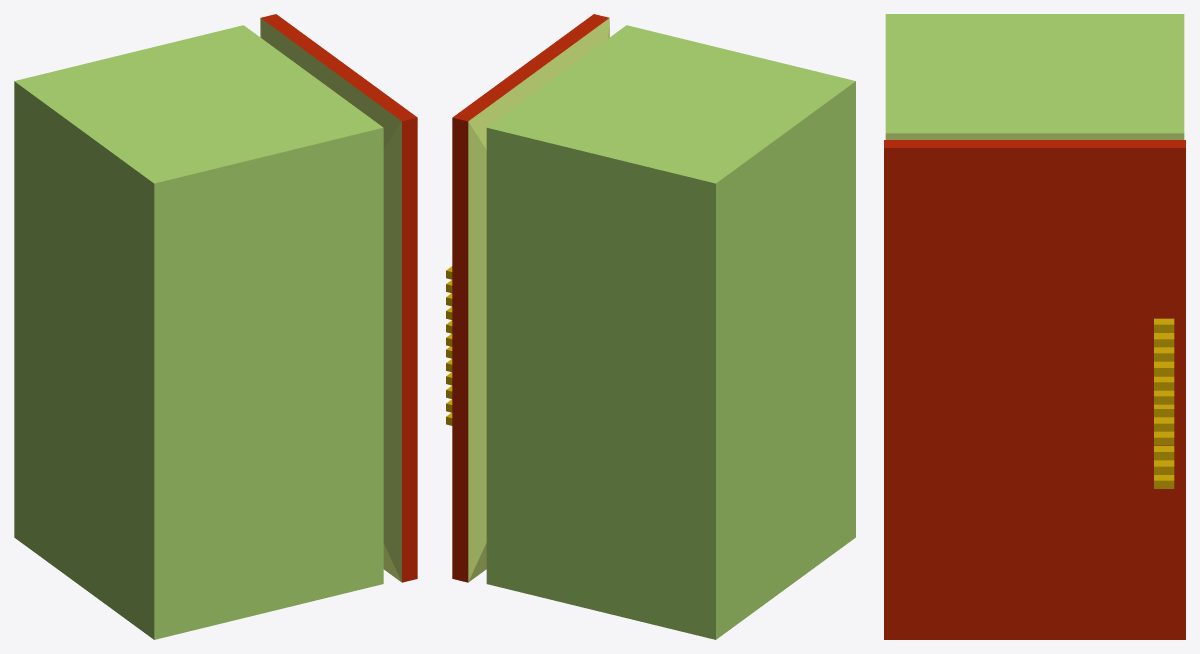
File: vending machine.fbx
3 renders of one model, left to right at view 1: azimuth 30°, elevation 25°; view 2: azimuth 150°, elevation 25°; view 3: azimuth 270°, elevation 25°, orthographic. The views are drawn at different scales.
Parts seen in each view (by area): view 1: vending_machine1; view 2: vending_machine1; view 3: vending_machine1.
Part boxes in pixels (x1,y1,x2,y2): vending_machine1: [14, 14, 417, 639]; vending_machine1: [446, 14, 855, 639]; vending_machine1: [884, 14, 1185, 639].
Bounding box in the file's own units: 10.91 × 17.51 × 9.74.
